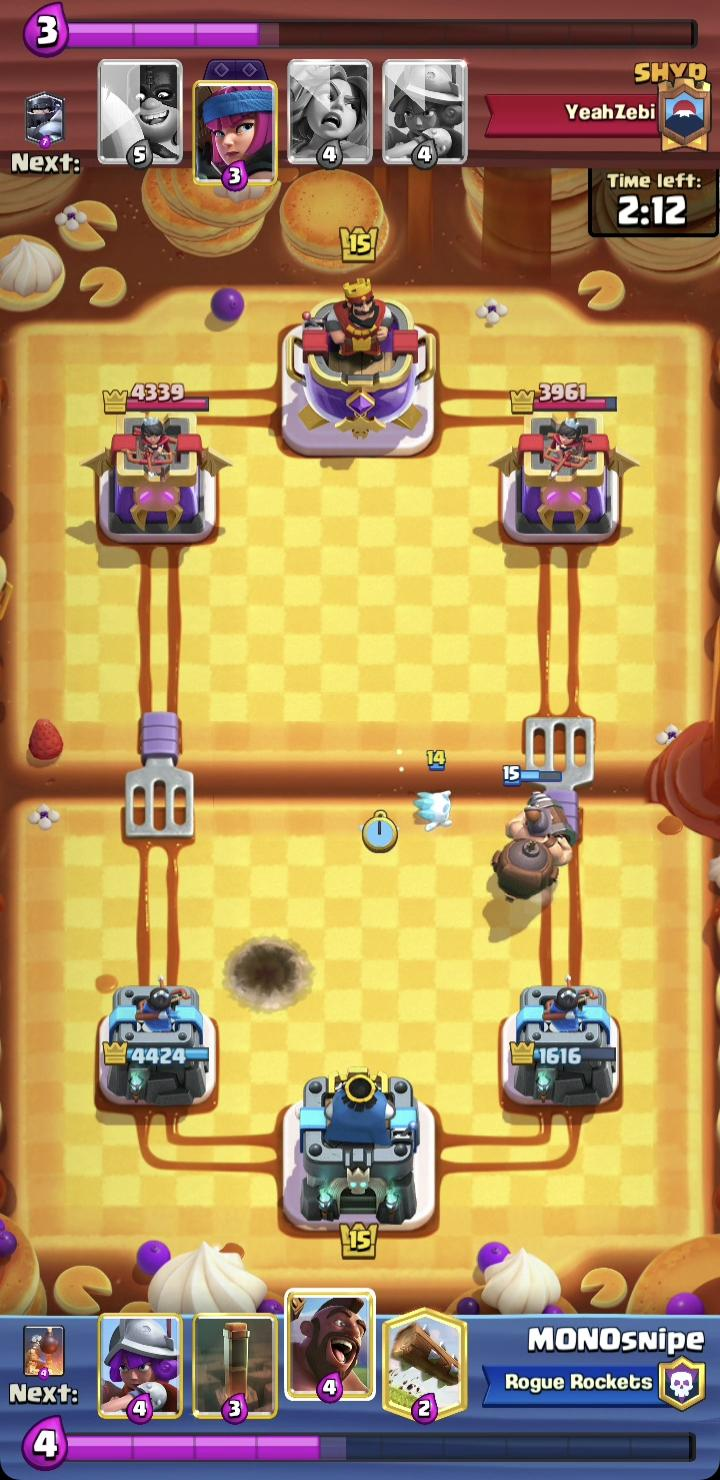ally_ice_spirit: (411, 749, 455, 831)
ally_mightyminer: (483, 764, 577, 902)
